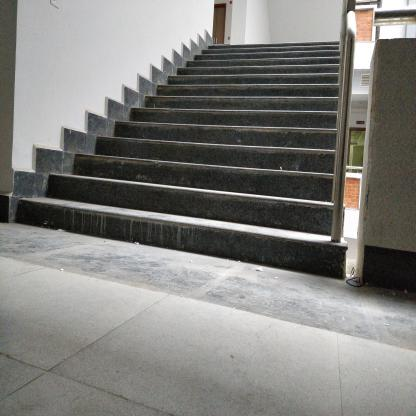stairs: (210, 43, 329, 273)
